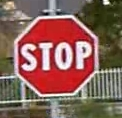stop: (12, 14, 100, 98)
